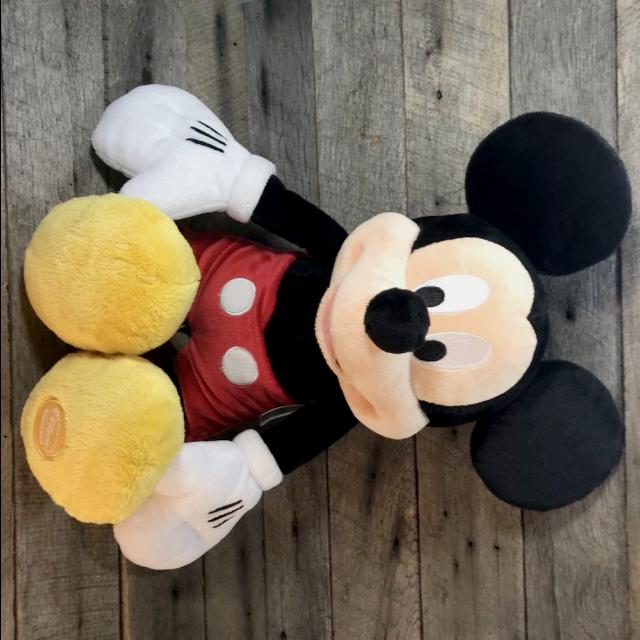mickey: (21, 85, 629, 568)
